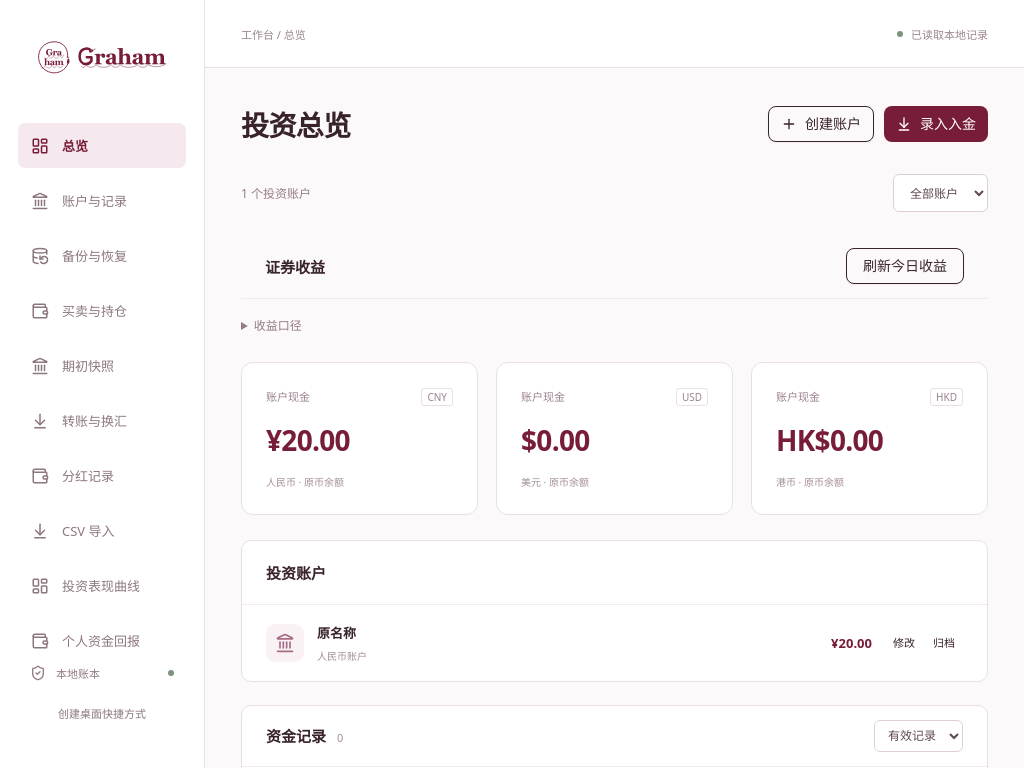
Test case: 已有记录账户修改时锁定币种，归档后仍显示原币余额
Click the button with aria-label "修改账户".
click(904, 643)  # box left=885, top=628, right=923, bottom=658
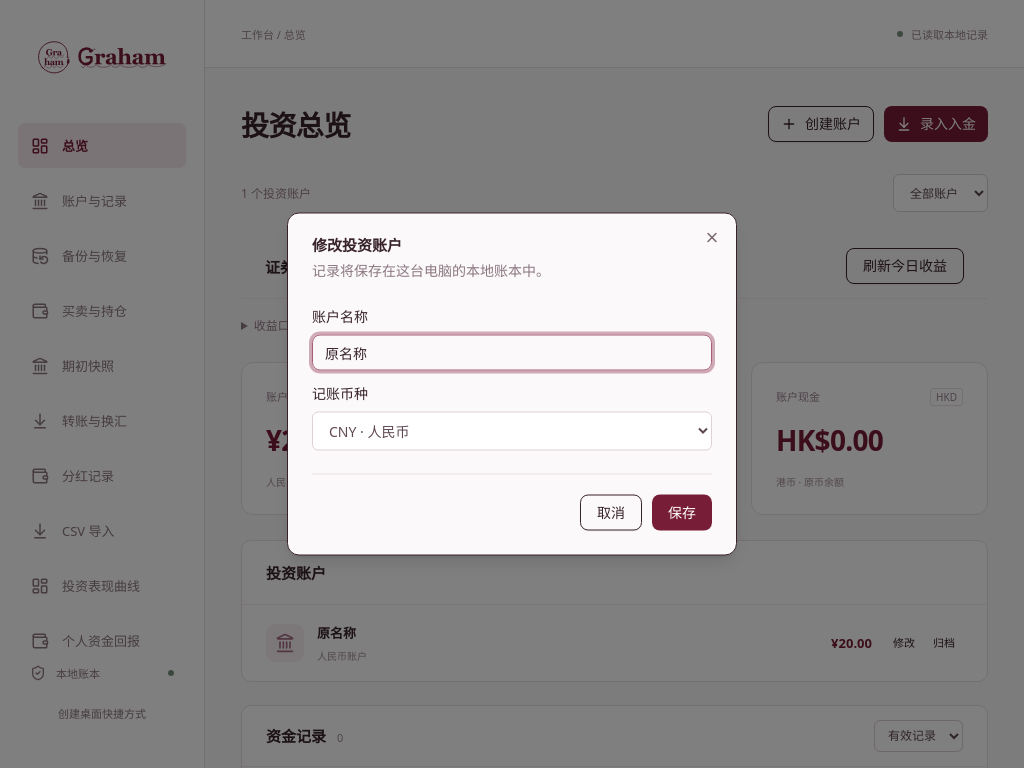
Result: the dropdown labelled "记账币种" is disabled at left=312, top=412, right=712, bottom=450
Replace the text in the field labelled "账户名称" with "兴业证券" at (512, 352), box left=312, top=334, right=712, bottom=370
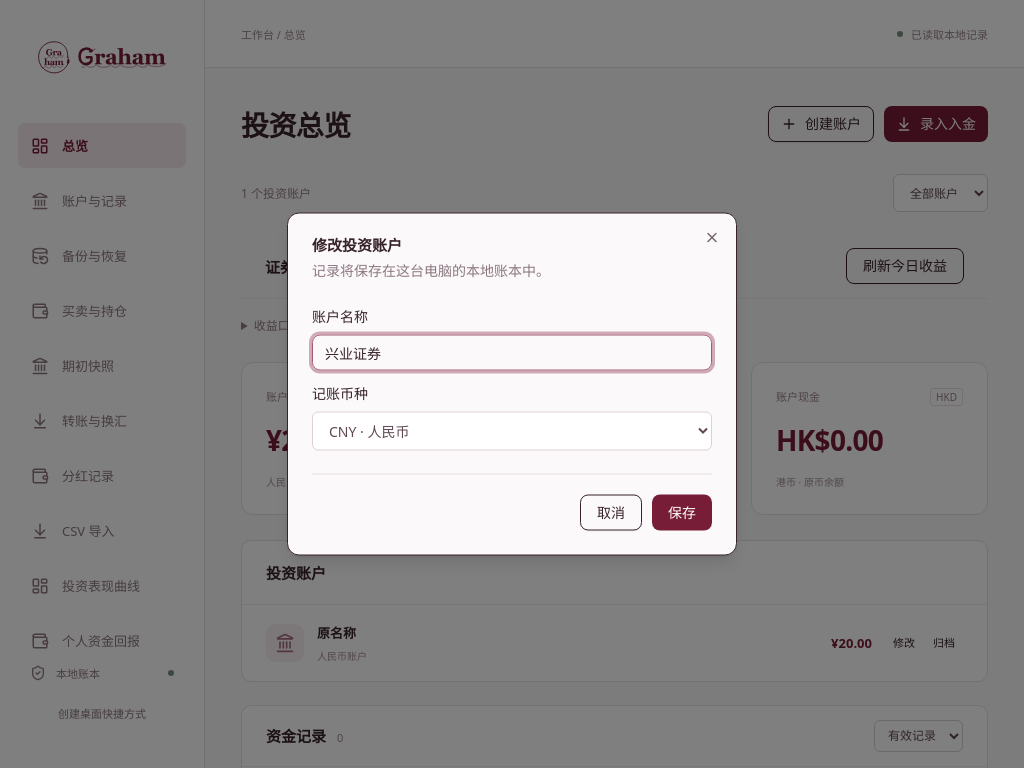
Click the button "保存".
click(682, 512)  # box left=652, top=494, right=712, bottom=530
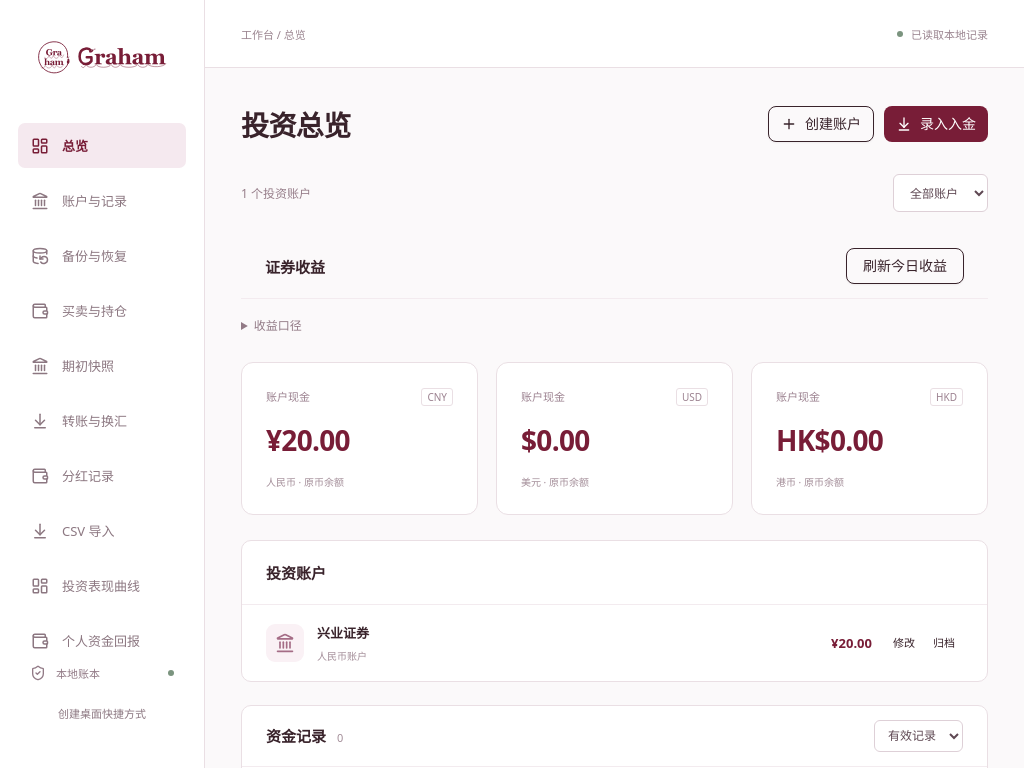
Click the button with aria-label "归档账户".
click(944, 643)  # box left=925, top=628, right=963, bottom=658
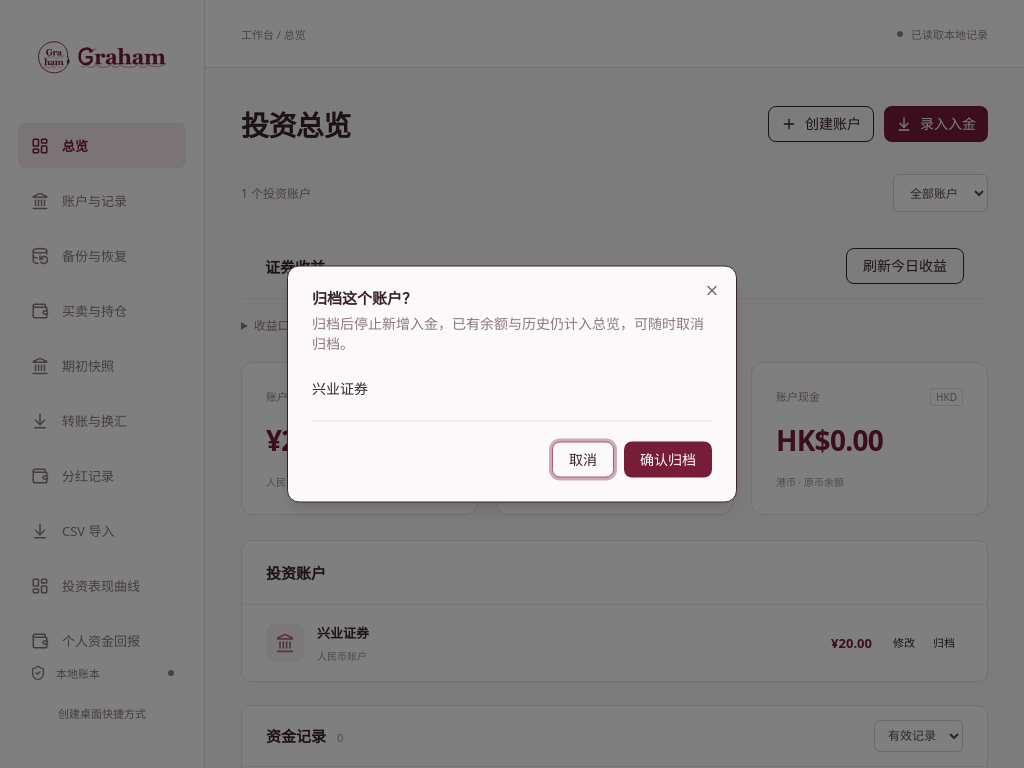
Click the button "确认归档".
click(668, 460)  # box left=624, top=442, right=712, bottom=478
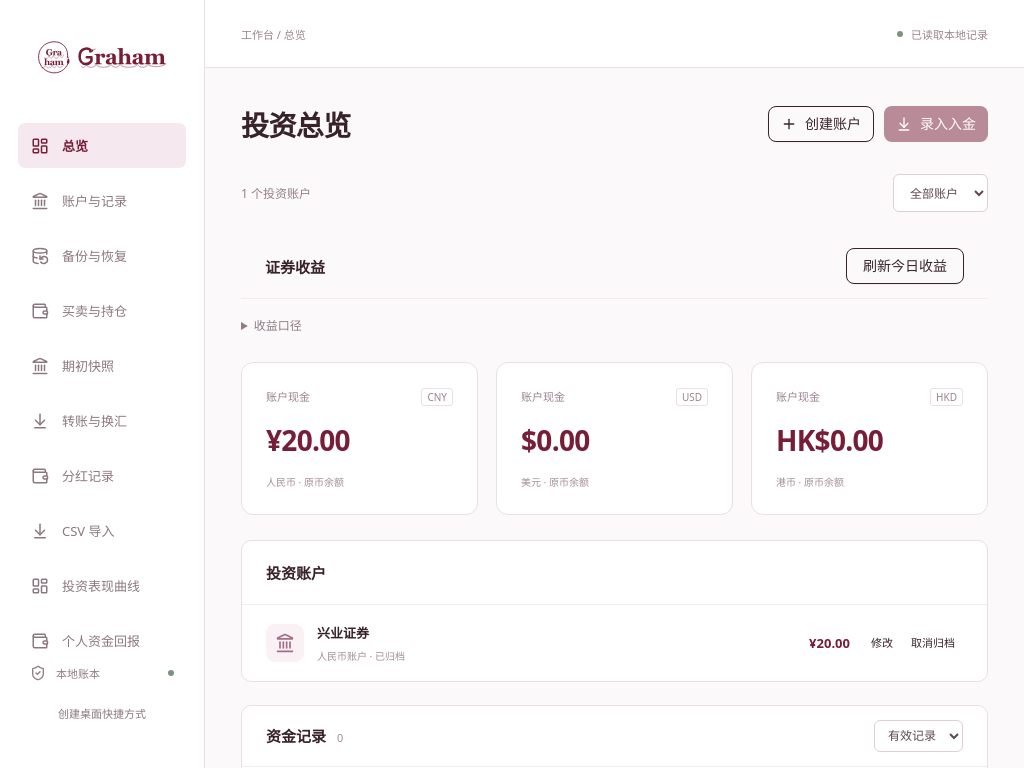
Expected: the text "¥20.00" is shown 2 times, left=266, top=421, right=350, bottom=459; left=809, top=634, right=850, bottom=652
Result: the button "取消归档" is shown at left=903, top=628, right=963, bottom=658
Result: the button "录入入金" is disabled at left=884, top=106, right=988, bottom=142
